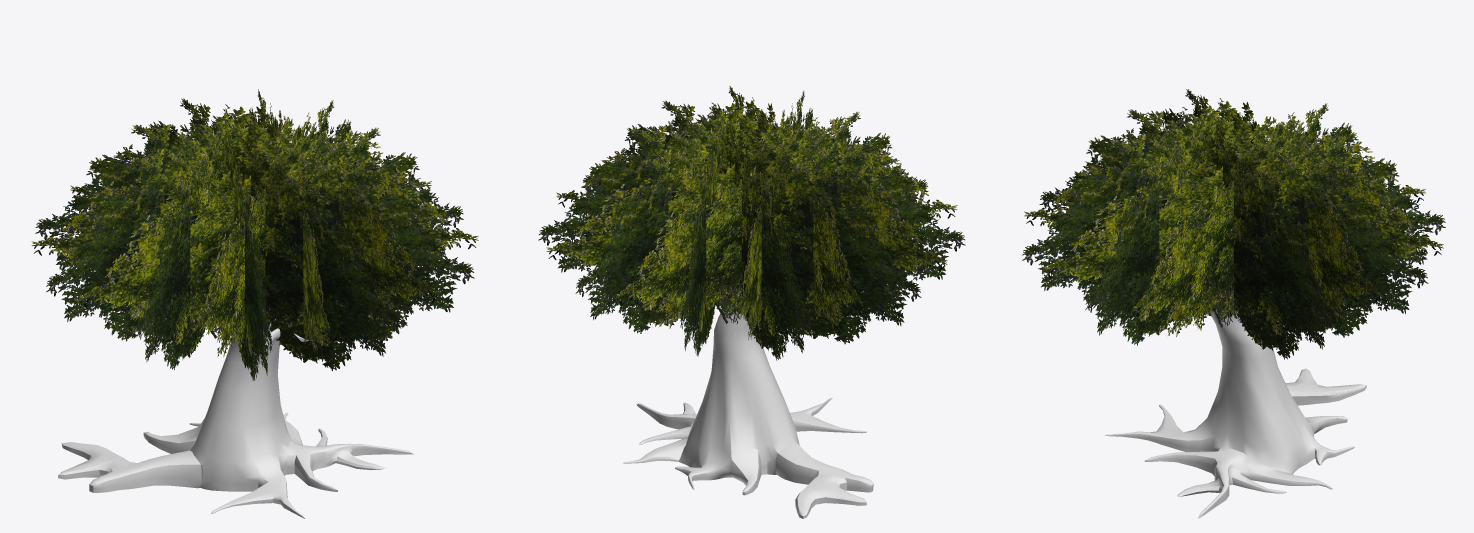
Rendered from Tree Base.fbx.
3 views of the same model, side by side, from view 1: azimuth 30°, elevation 25°; view 2: azimuth 150°, elevation 25°; view 3: azimuth 270°, elevation 25° (orthographic). The views are drawn at different scales.
Visible parts, largest first — view 1: Leaves, Tree_Base; view 2: Leaves, Tree_Base; view 3: Leaves, Tree_Base.
Part boxes in pixels (x1,y1,x2,y2): Leaves: (31,89,478,380); Tree_Base: (58,319,414,518); Leaves: (538,86,965,360); Tree_Base: (623,289,873,518); Leaves: (1022,89,1445,359); Tree_Base: (1105,292,1366,518).
Size of the model in its own units: 1440 by 1205 by 1425.
1 material, 1 textured.
